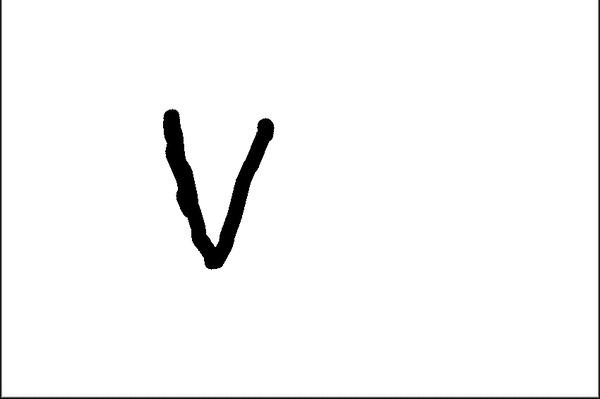V: (155, 101, 277, 272)
